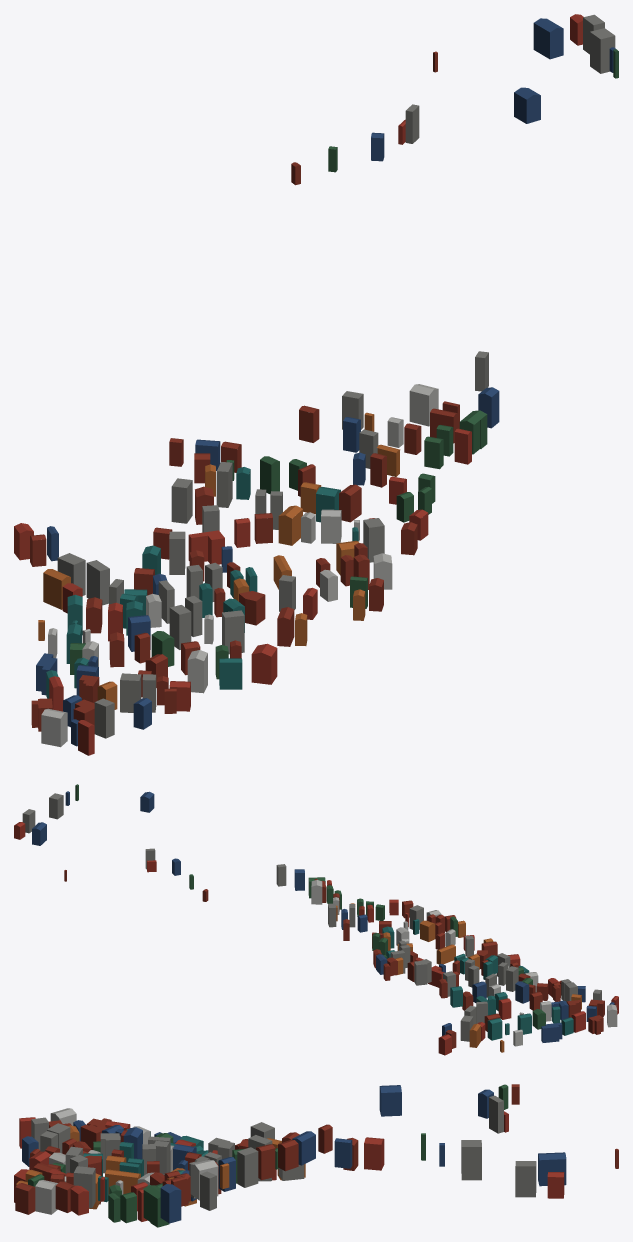
Rendered from near-16-54721-29729.4bf79d69.glb.
3 views of the same model, one above another, from view 1: azimuth 30°, elevation 25°; view 2: azimuth 150°, elevation 25°; view 3: azimuth 270°, elevation 25° (orthographic). The views are drawn at different scales.
Bounding box in the file's own units: 592 × 265 × 404.
